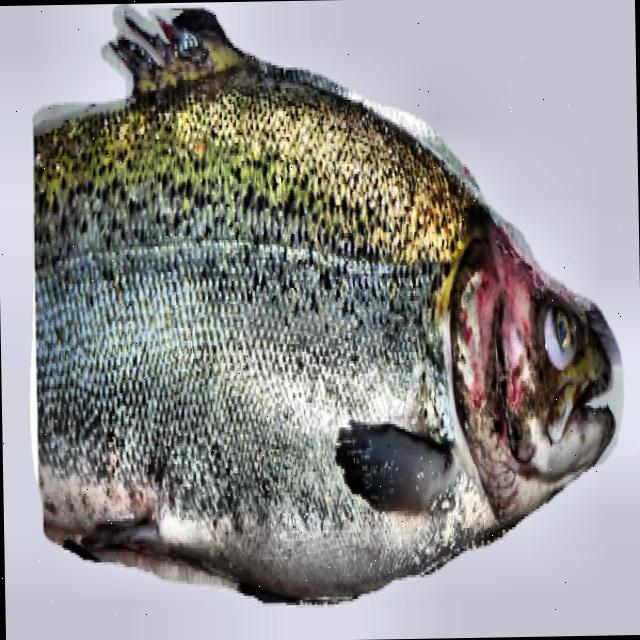mild_red: (33, 75, 472, 591)
wound: (445, 207, 588, 524)
